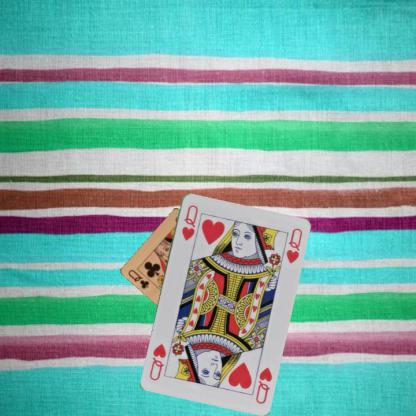Qc: (126, 267, 151, 290)
Qh: (252, 364, 274, 405), (179, 202, 199, 242)
